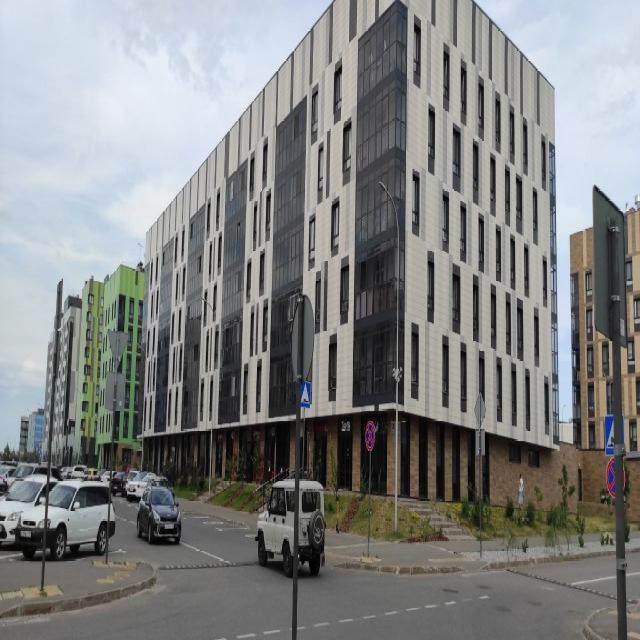Building: (135, 0, 580, 516)
